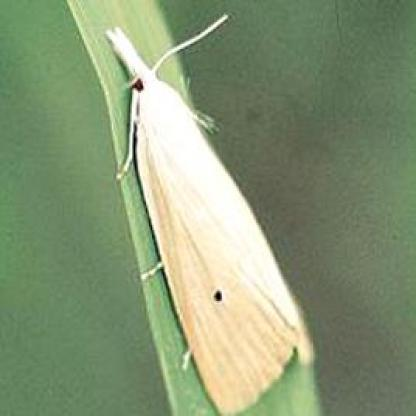stem-borer: (105, 15, 316, 416)
